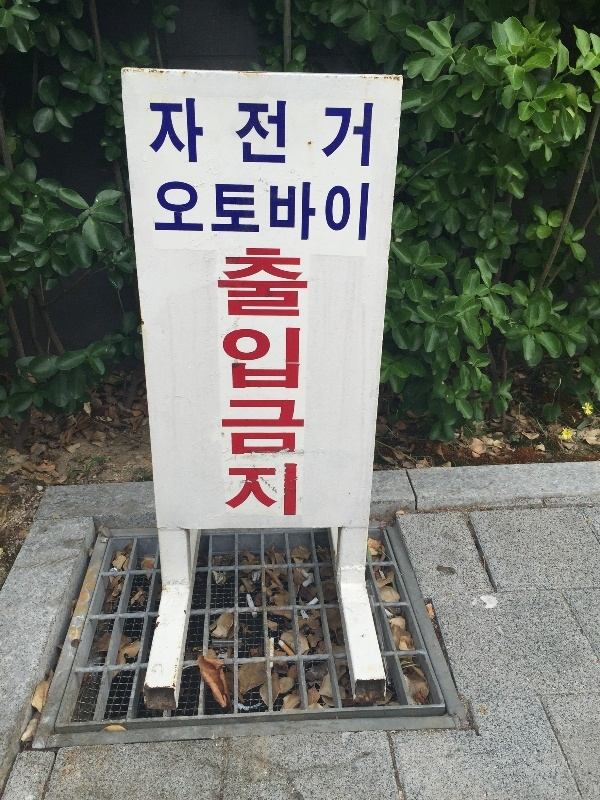text: (225, 245, 240, 517), (241, 245, 256, 517), (257, 245, 272, 517), (273, 245, 288, 517), (289, 245, 304, 517), (217, 245, 224, 517), (161, 96, 176, 170), (177, 96, 192, 170), (193, 96, 208, 170), (209, 96, 224, 170), (225, 96, 240, 170), (241, 96, 256, 170), (257, 96, 272, 170), (273, 96, 288, 170), (289, 96, 304, 170), (305, 96, 320, 170), (321, 96, 336, 170), (337, 96, 352, 170), (353, 96, 368, 170), (305, 245, 309, 517), (161, 181, 176, 245), (177, 181, 192, 245), (193, 181, 208, 245), (209, 181, 224, 245), (225, 181, 240, 245), (241, 181, 256, 245), (257, 181, 272, 245), (273, 181, 288, 245), (289, 181, 304, 245), (305, 181, 320, 245), (321, 181, 336, 245), (337, 181, 352, 245), (353, 181, 368, 245), (149, 96, 160, 170), (369, 96, 374, 170), (156, 181, 160, 245), (369, 181, 370, 245)
